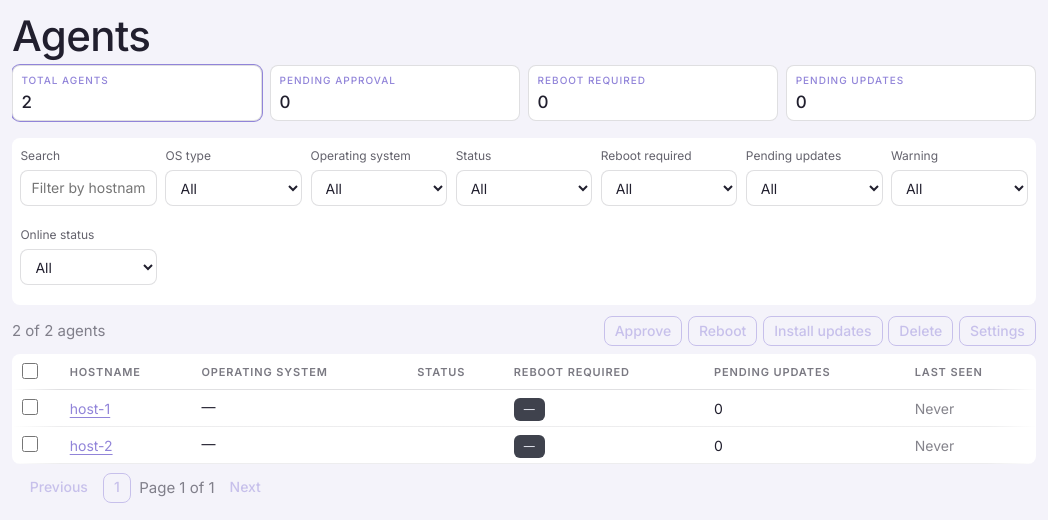
Scenario: AgentsListPage › selects and deselects every visible row via the header checkbox
Check: the link "host-1" is shown, box [70, 400, 110, 417]
What coordinates should you click on to do the following:
click the checkbox named "Select all"
I would click on:
 (30, 371)
Its box is [22, 363, 38, 379].
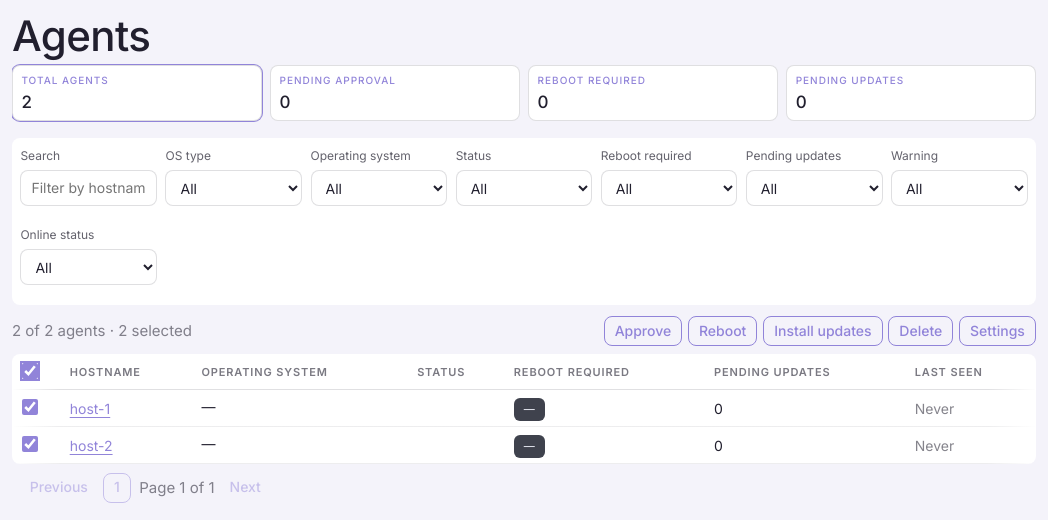
Check: the checkbox named "select host-1" is checked, box [22, 399, 38, 415]
Check: the checkbox named "select host-2" is checked, box [22, 436, 38, 452]
Check: the text "2 selected" is shown, box [118, 322, 192, 340]
What coordinates should you click on to do the following:
click the checkbox named "Select all"
I would click on:
 (30, 371)
Its box is [22, 363, 38, 379].
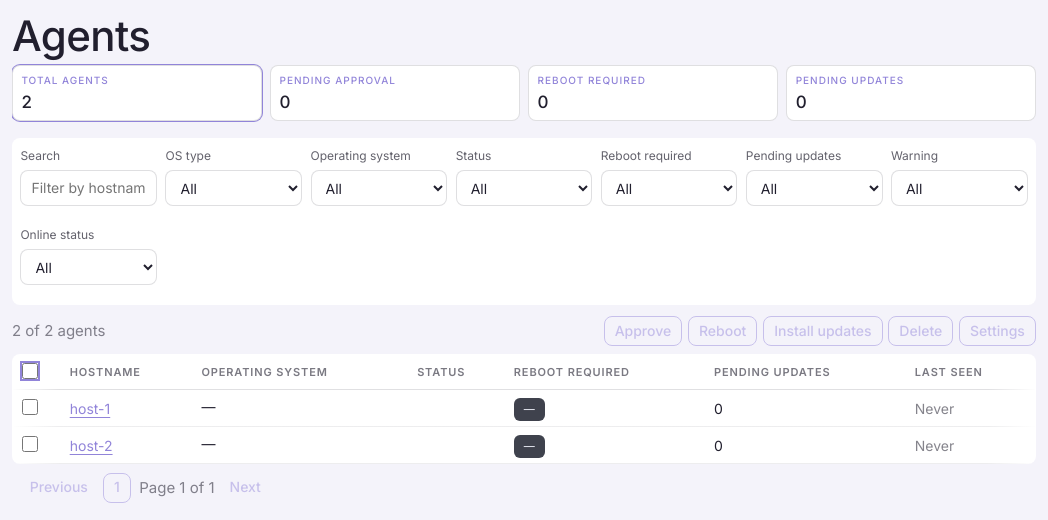
Check: the checkbox named "select host-1" is not checked, box [22, 399, 38, 415]
Check: the checkbox named "select host-2" is not checked, box [22, 436, 38, 452]
